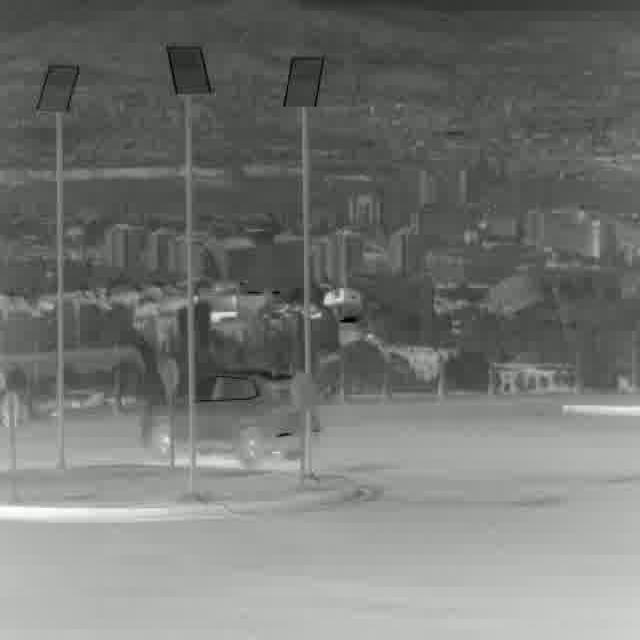Car: (141, 372, 310, 460)
